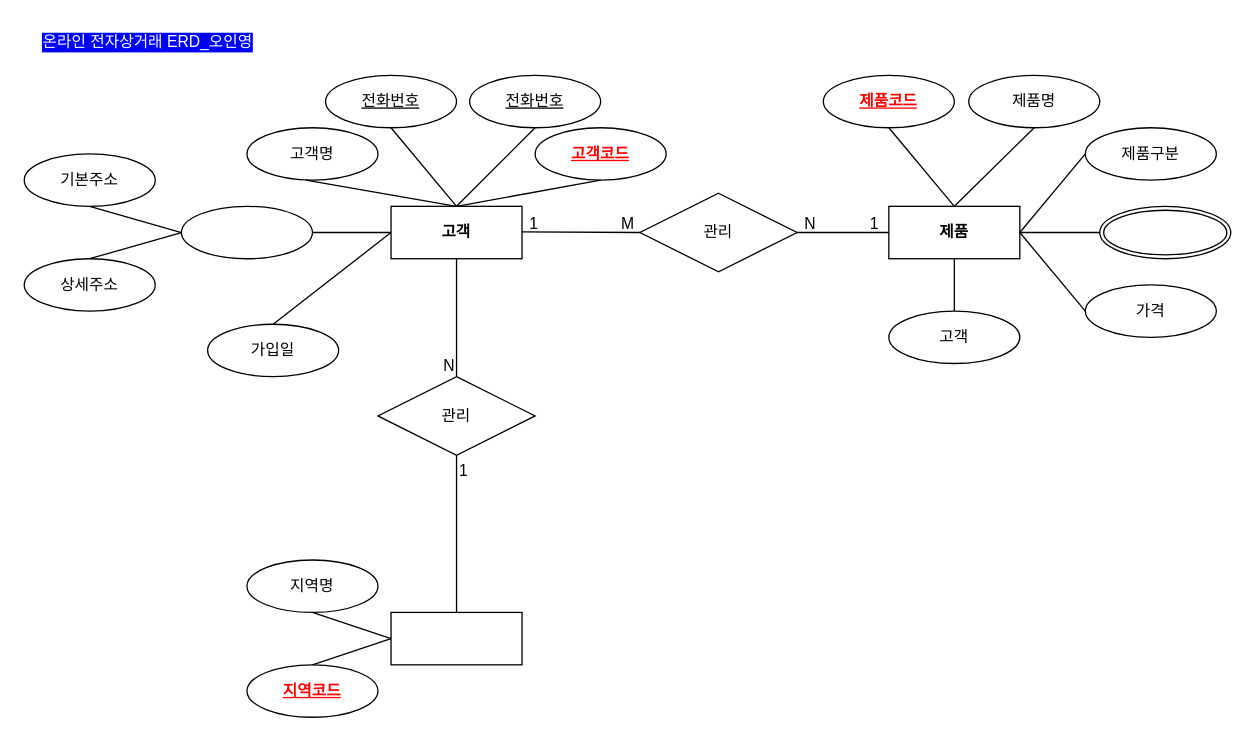
This 1254x740 diagram has some shape labels left out. The centre of each missing label's shape, as x and y in pixels:
제품색상: the point at 1164,232
주소: the point at 246,232
지역: the point at 456,638
